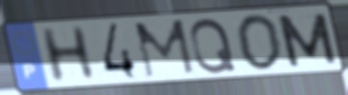4: (98, 22, 141, 82)
H: (37, 24, 99, 86)
M: (132, 17, 198, 80), (274, 11, 340, 69)
O: (235, 13, 285, 73)
Q: (188, 17, 239, 76)
